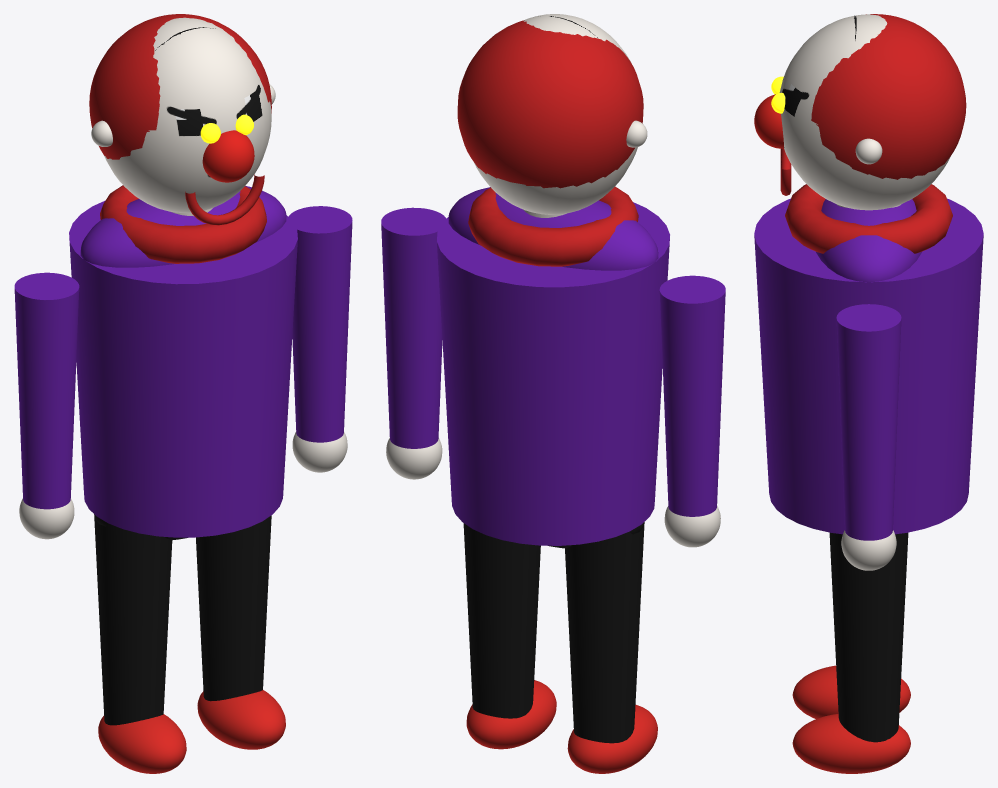
Rendered from evil-clown.glb.
3 views of the same model, side by side, from view 1: azimuth 30°, elevation 25°; view 2: azimuth 150°, elevation 25°; view 3: azimuth 270°, elevation 25° (orthographic).
Visible parts, largest first — view 1: torso, skull, left-arm-mesh, left-leg-mesh, right-arm-mesh, right-leg-mesh, hair-short, neck, chest-top, right-shoe, left-shoe, nose (+3 smaller); view 2: torso, hair-short, left-leg-mesh, left-arm-mesh, right-arm-mesh, right-leg-mesh, neck, chest-top, skull, right-shoe, left-shoe, left-hand (+1 smaller); view 3: torso, hair-short, right-arm-mesh, right-leg-mesh, skull, neck, chest-top, right-shoe, left-shoe, right-hand, nose, right-ear (+1 smaller).
Part boxes in pixels (x1,y1,x2,y2): torso: (69, 200, 297, 537); skull: (104, 17, 271, 212); left-arm-mesh: (14, 272, 79, 509); left-leg-mesh: (94, 517, 172, 725); right-arm-mesh: (288, 206, 352, 442); right-leg-mesh: (196, 515, 271, 701); hair-short: (89, 14, 271, 159); neck: (100, 185, 266, 263); chest-top: (80, 186, 286, 267); right-shoe: (197, 690, 285, 749); left-shoe: (98, 714, 186, 773); nose: (202, 130, 254, 182); torso: (436, 202, 669, 545); hair-short: (457, 20, 643, 188); left-leg-mesh: (565, 523, 644, 743); left-arm-mesh: (659, 275, 725, 516); right-arm-mesh: (381, 207, 446, 448); right-leg-mesh: (463, 523, 540, 718); neck: (468, 186, 638, 266); chest-top: (448, 187, 658, 270); skull: (474, 14, 637, 214); right-shoe: (466, 680, 556, 749); left-shoe: (567, 705, 657, 773); left-hand: (664, 505, 720, 547); torso: (754, 198, 983, 534); hair-short: (811, 14, 966, 179); right-arm-mesh: (836, 304, 901, 540); right-leg-mesh: (829, 532, 908, 742); skull: (779, 14, 950, 210); neck: (785, 184, 952, 253); chest-top: (816, 199, 921, 282); right-shoe: (792, 713, 910, 773); left-shoe: (792, 665, 910, 718); right-hand: (841, 530, 896, 570); nose: (754, 94, 783, 148); right-ear: (855, 138, 882, 164).
Bounding box in the file's own units: 1.99 × 4.17 × 1.2.
10 materials, 1 textured.
